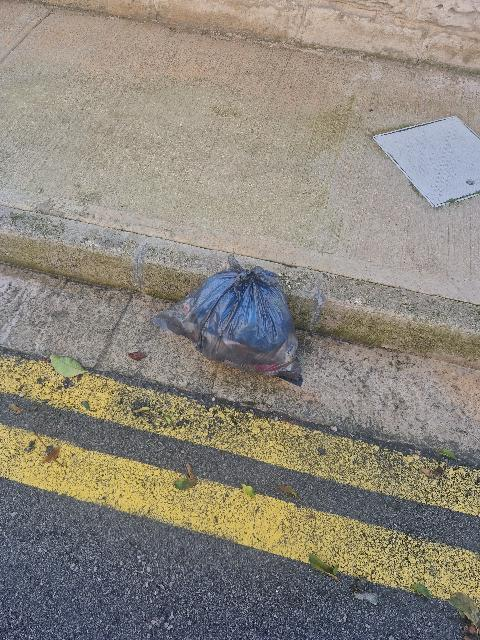Recyclable -Grey-: (154, 255, 301, 381)
